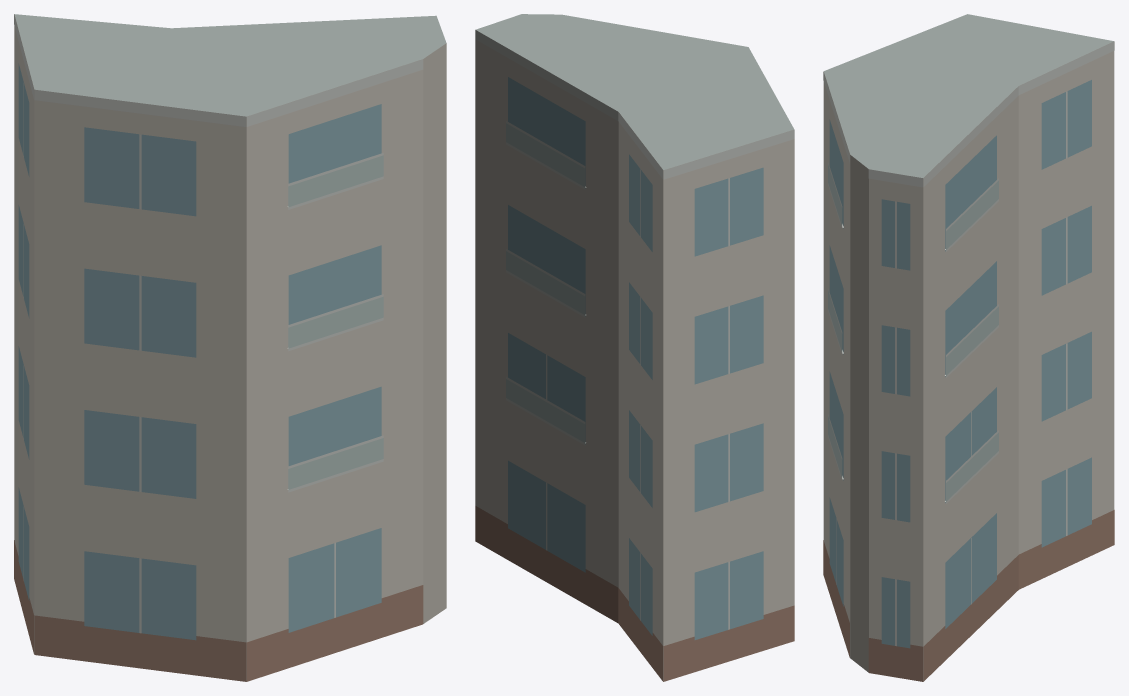
Rendered from survey-upis-32488569.glb.
3 views of the same model, side by side, from view 1: azimuth 30°, elevation 25°; view 2: azimuth 150°, elevation 25°; view 3: azimuth 270°, elevation 25° (orthographic). The views are drawn at different scales.
Parts seen in each view (by area): view 1: survey-upis-32488569.tmp; view 2: survey-upis-32488569.tmp; view 3: survey-upis-32488569.tmp.
Part boxes in pixels (x1,y1,x2,y2): survey-upis-32488569.tmp: (14,14,446,681); survey-upis-32488569.tmp: (475,14,794,681); survey-upis-32488569.tmp: (823,14,1114,681).
Size of the model in its own units: 9.16 by 13.1 by 6.86.
